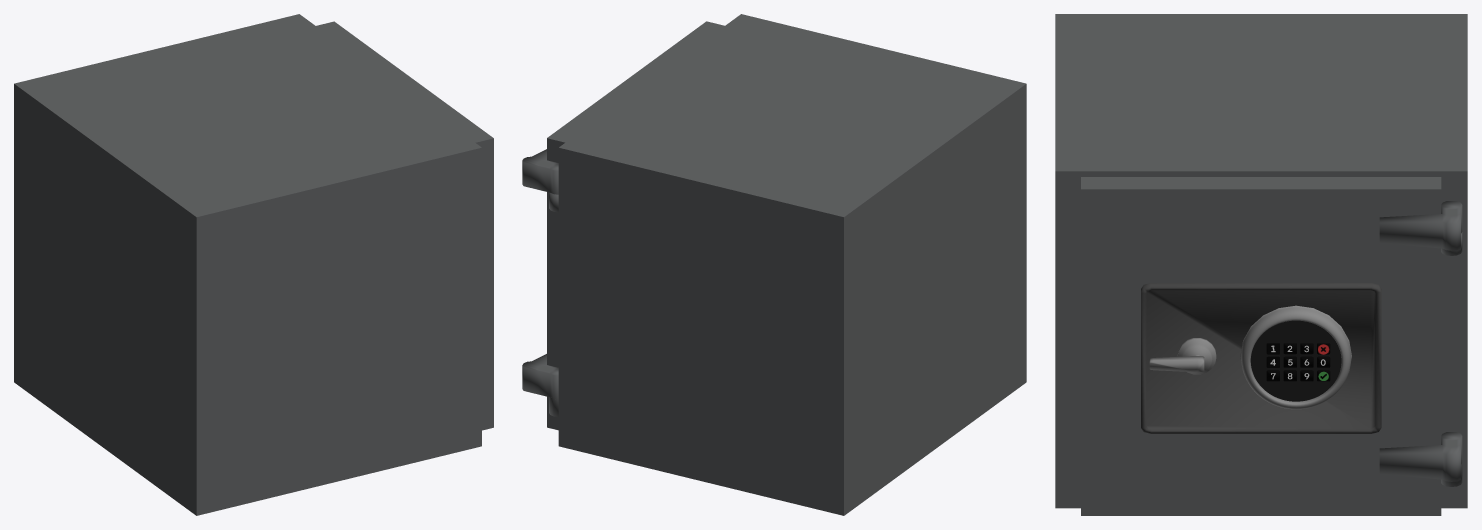
The model's file is safe1.fbx.
3 renders of one model, left to right at view 1: azimuth 30°, elevation 25°; view 2: azimuth 150°, elevation 25°; view 3: azimuth 270°, elevation 25°, orthographic. The views are drawn at different scales.
Visible parts, largest first — view 1: Cube, Cylinder.003; view 2: Cube, Cylinder.003; view 3: Cylinder.003, Cube, Cube.015, Cylinder.001, Cylinder, Cube.003, Cube.004, Cylinder.004.
Part boxes in pixels (left/top/right/bottom): Cube: left=14, top=14, right=481, bottom=515; Cylinder.003: left=316, top=21, right=493, bottom=430; Cube: left=558, top=14, right=1026, bottom=515; Cylinder.003: left=522, top=21, right=724, bottom=430; Cylinder.003: left=1081, top=177, right=1462, bottom=515; Cube: left=1055, top=14, right=1467, bottom=508; Cube.015: left=1141, top=283, right=1381, bottom=433; Cylinder.001: left=1250, top=320, right=1341, bottom=401; Cylinder: left=1240, top=305, right=1351, bottom=409; Cube.003: left=1266, top=343, right=1330, bottom=381; Cube.004: left=1149, top=355, right=1204, bottom=372; Cylinder.004: left=1177, top=338, right=1216, bottom=374.
Size of the model in its own units: 63.53 by 54.22 by 60.07.
Materials: 17 (12 with a texture image).
